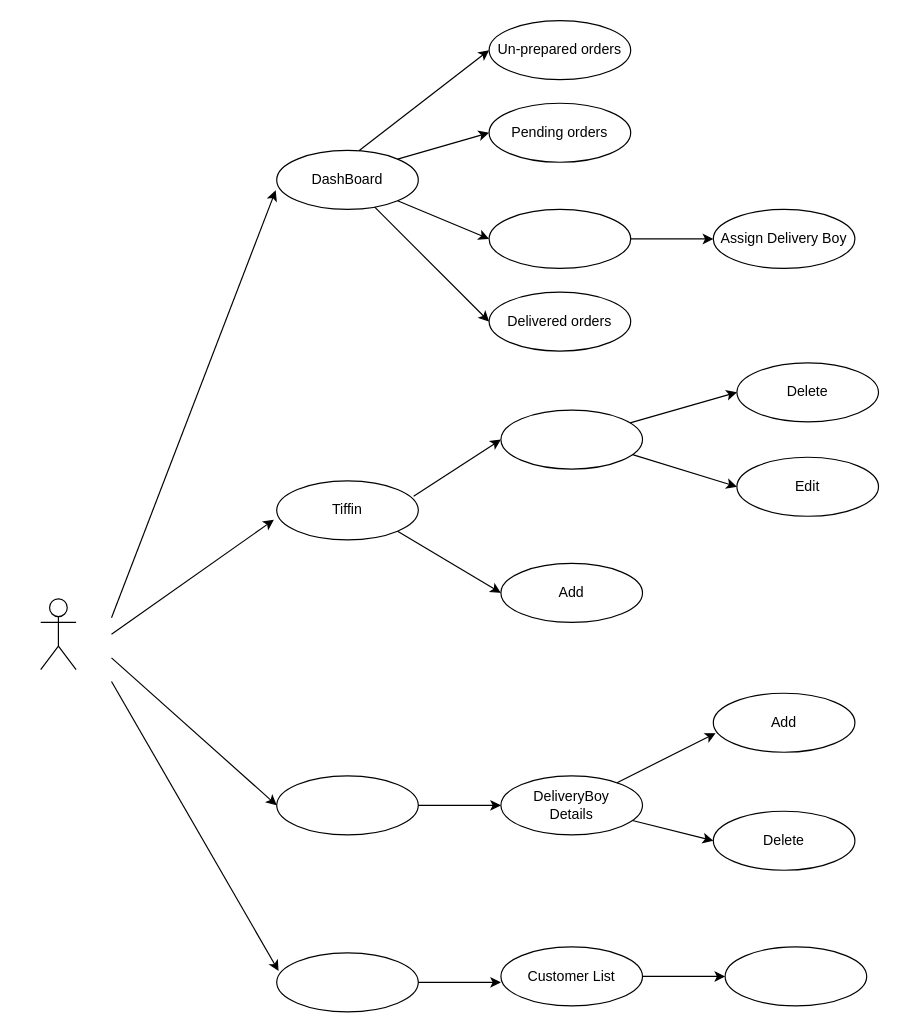
Image size: 899x1033. Some labels were removed from this diagram. Here are the shapes that lost their labels. From the top down, the centre of each, then its label:
At [559,238]: "Un-delivered orders".
At [571,439]: "Show".
At [58,634]: "MessOwner".
At [347,805]: "DeliveryBoy".
At [347,982]: "Active Customers".
At [795,976]: "Previous Orders".
